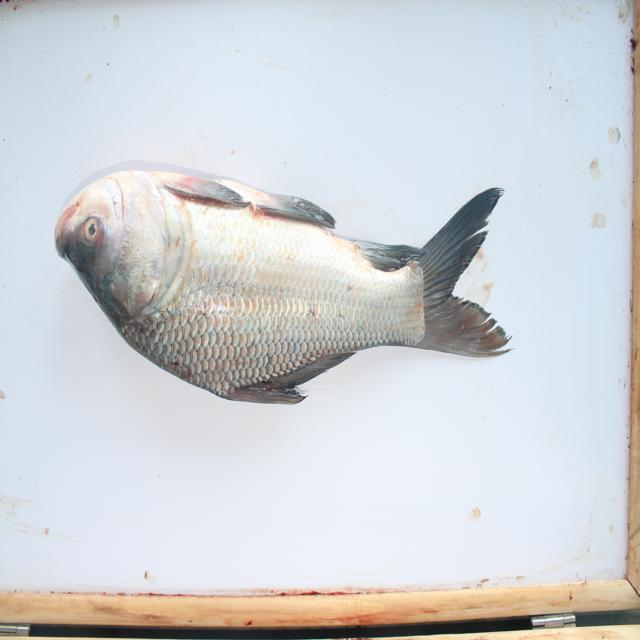Catla: (54, 150, 539, 408)
